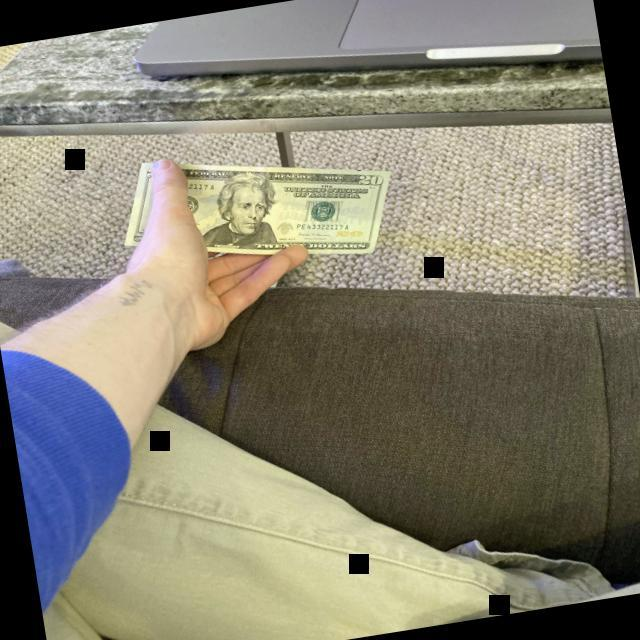twenty: (124, 162, 395, 254)
